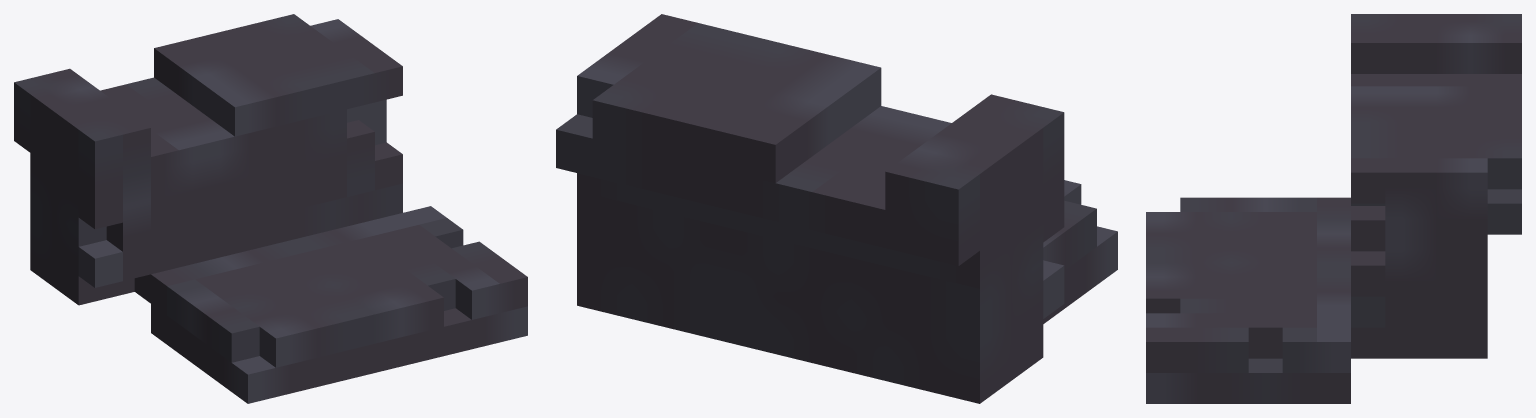
File: Tomb-1.fbx
The picture shows the model from 3 angles, left to right: view 1: azimuth 30°, elevation 25°; view 2: azimuth 150°, elevation 25°; view 3: azimuth 270°, elevation 25°; orthographic projection. The views are drawn at different scales.
Parts seen in each view (by area): view 1: Tomb-1; view 2: Tomb-1; view 3: Tomb-1.
Part boxes in pixels (x1,y1,x2,y2): Tomb-1: [14, 14, 527, 403]; Tomb-1: [556, 14, 1117, 403]; Tomb-1: [1146, 14, 1521, 403].
Size of the model in its own units: 60 by 35 by 55.
